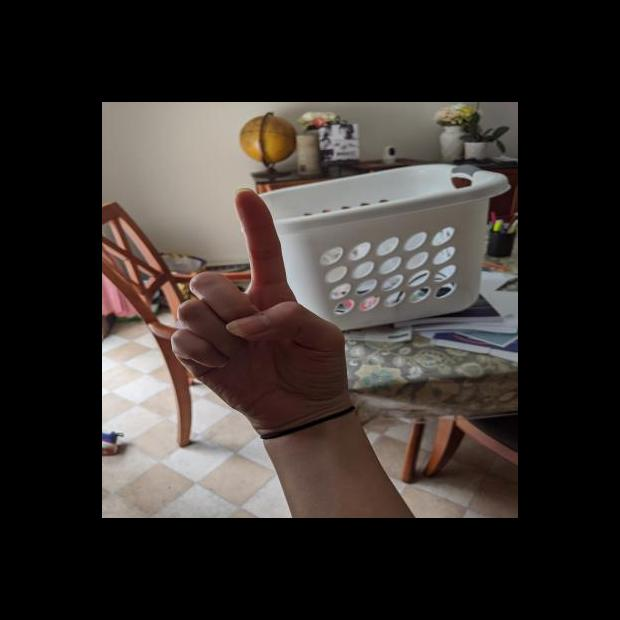C: (168, 185, 354, 435)
